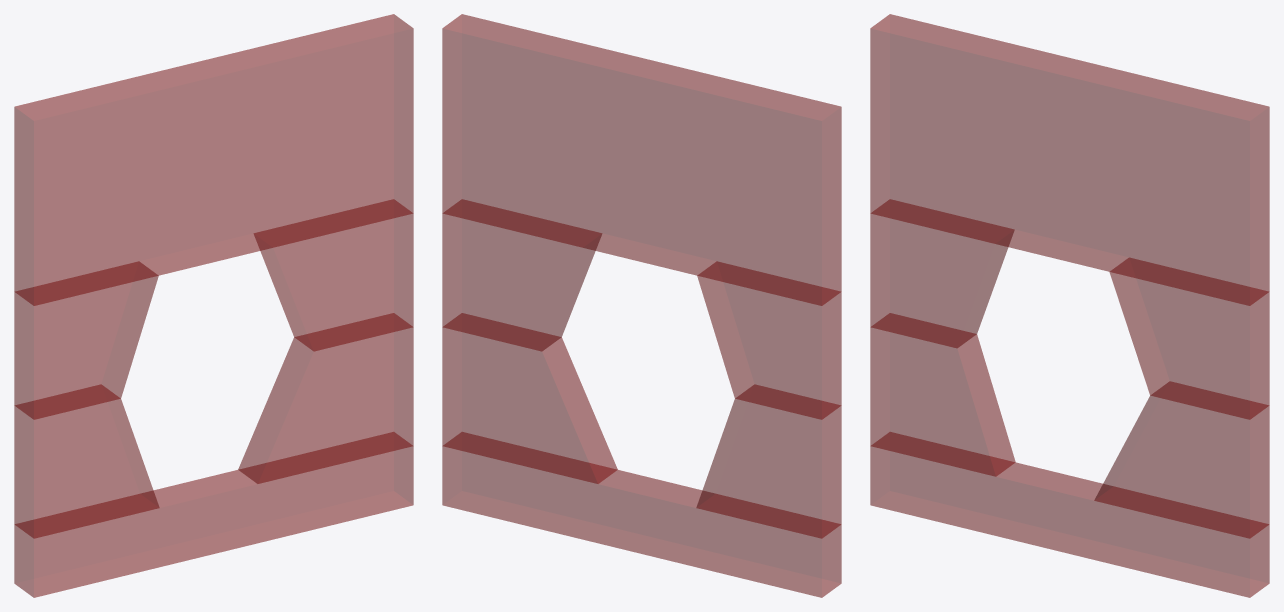
The model's file is SM_Bld_Wall_Hole_01_Collision.fbx.
3 views of the same model, side by side, from view 1: azimuth 30°, elevation 25°; view 2: azimuth 150°, elevation 25°; view 3: azimuth 330°, elevation 25° (orthographic).
Parts seen in each view (by area): view 1: SM_Bld_Wall_Hole_01_Collision; view 2: SM_Bld_Wall_Hole_01_Collision; view 3: SM_Bld_Wall_Hole_01_Collision.
Boxes of the visible parts, x1=… form: SM_Bld_Wall_Hole_01_Collision: x1=14, y1=14, x2=413, y2=597; SM_Bld_Wall_Hole_01_Collision: x1=442, y1=14, x2=841, y2=597; SM_Bld_Wall_Hole_01_Collision: x1=870, y1=14, x2=1269, y2=597.
Size of the model in its own units: 250 by 300 by 22.5.
